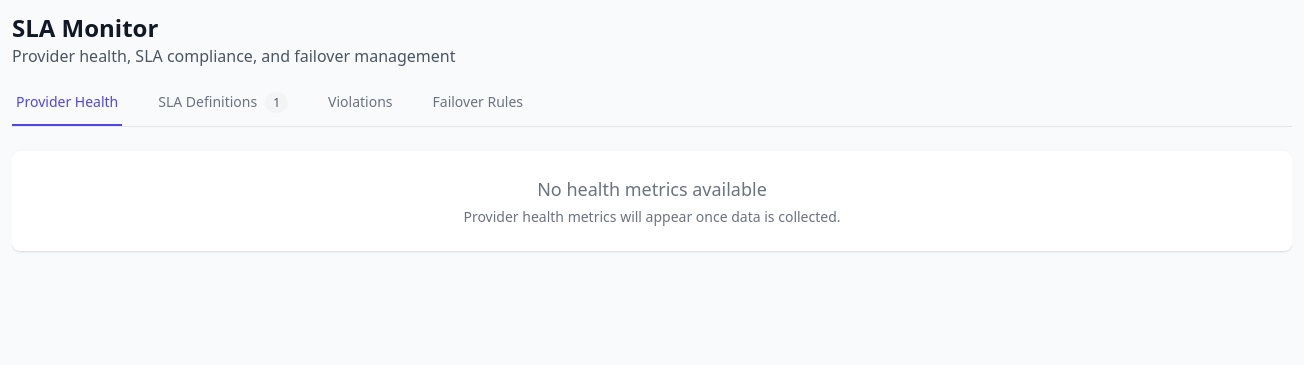
SLAMonitoring › renders SLA definitions with provider and model badges
Click the button "SLA Definitions1": {"x": 223, "y": 109} [154, 92, 292, 126]
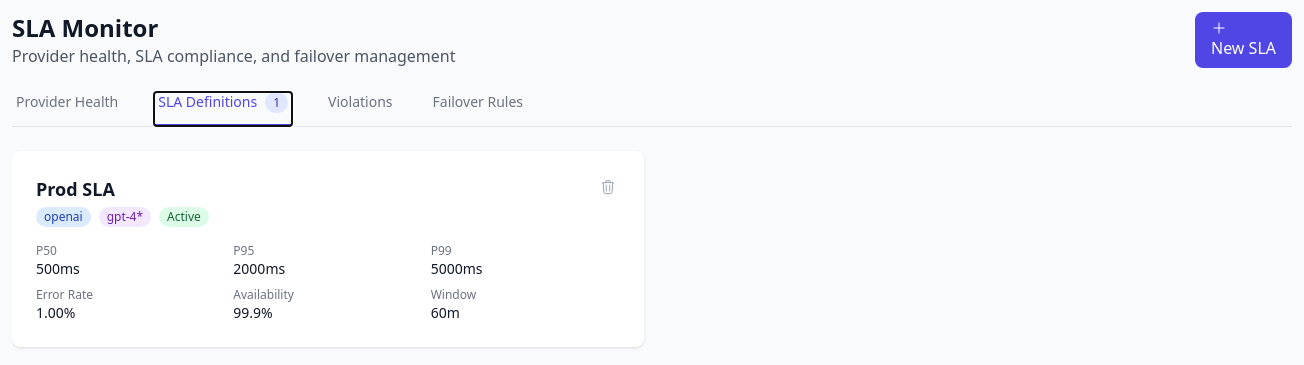
Check: the heading "Prod SLA" is shown, box [36, 177, 115, 201]
Check: the text "openai" is shown, box [36, 207, 91, 227]
Check: the text "gpt-4*" is shown, box [99, 207, 151, 227]
